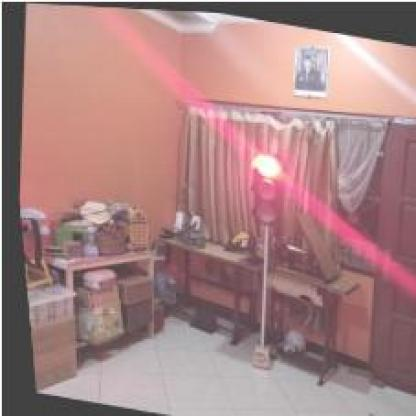red: (242, 146, 282, 221)
